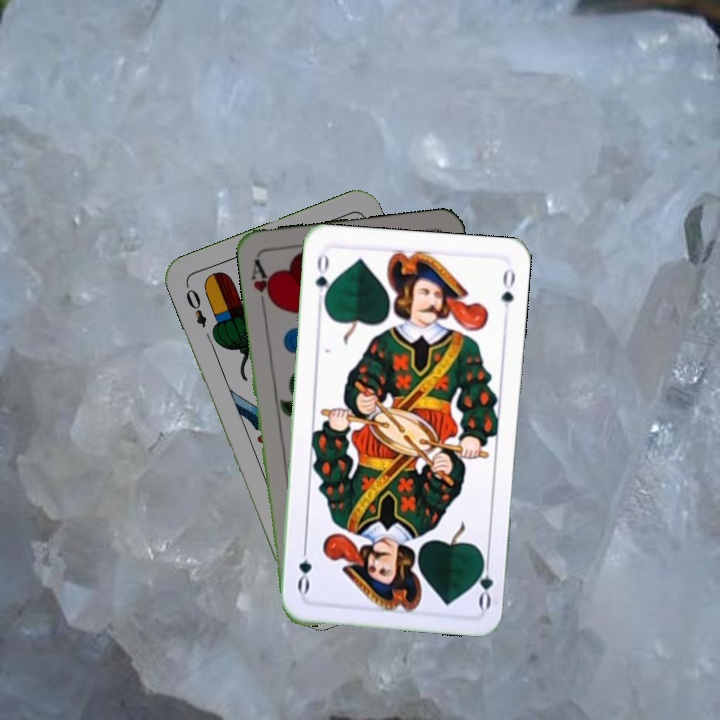EO: (181, 280, 209, 330)
GO: (471, 551, 496, 611), (311, 249, 334, 308)
HA: (246, 254, 277, 313)
